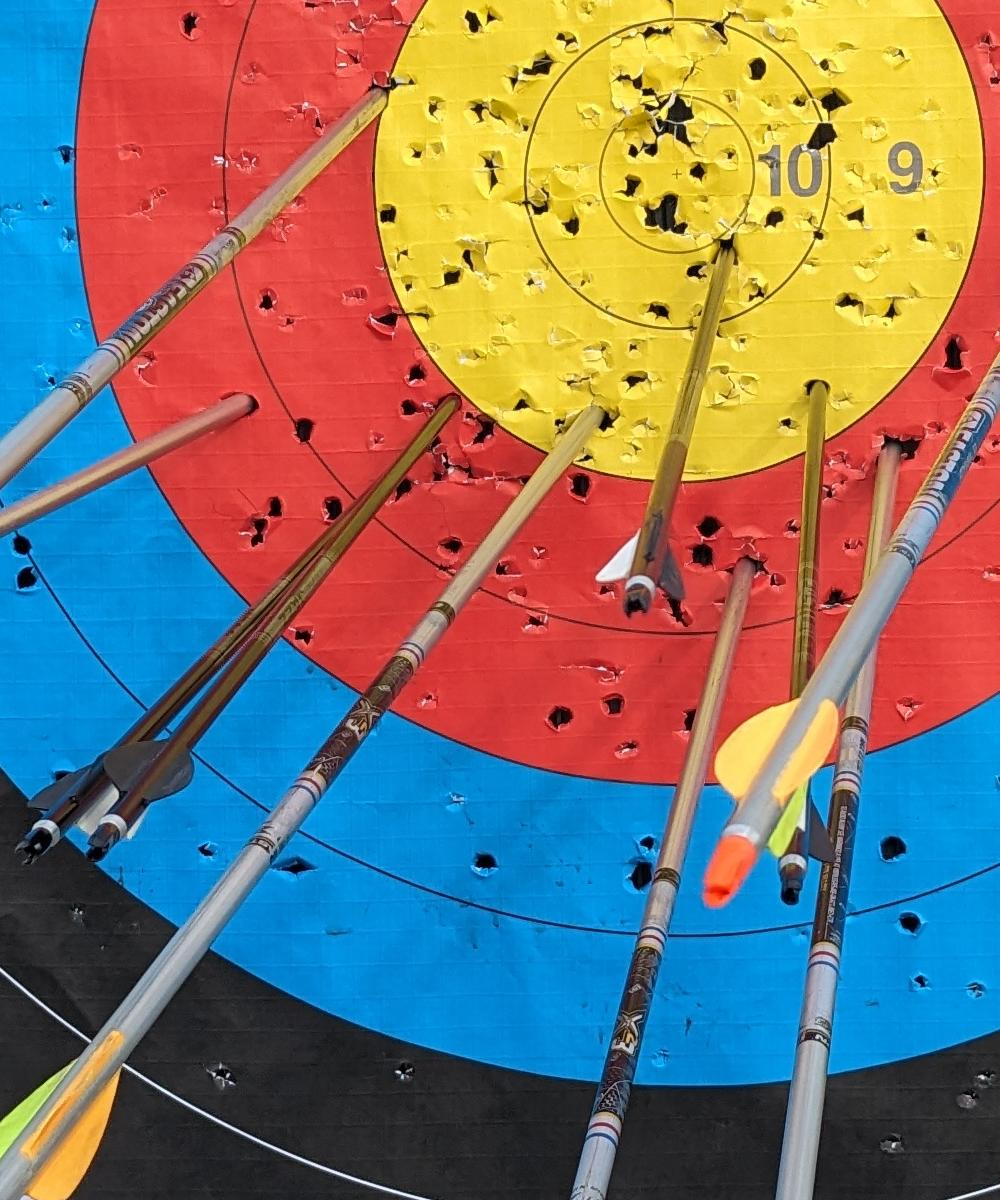10-Ring: (522, 14, 834, 335)
7-Ring: (76, 0, 1000, 784)
8-Ring: (222, 0, 1000, 635)
9-Ring: (376, 0, 985, 481)
Arrow: (0, 362, 610, 1200), (48, 366, 475, 881), (0, 434, 453, 890), (0, 73, 394, 489), (570, 558, 756, 1200), (776, 445, 902, 1200), (591, 235, 737, 625), (746, 385, 837, 906)
